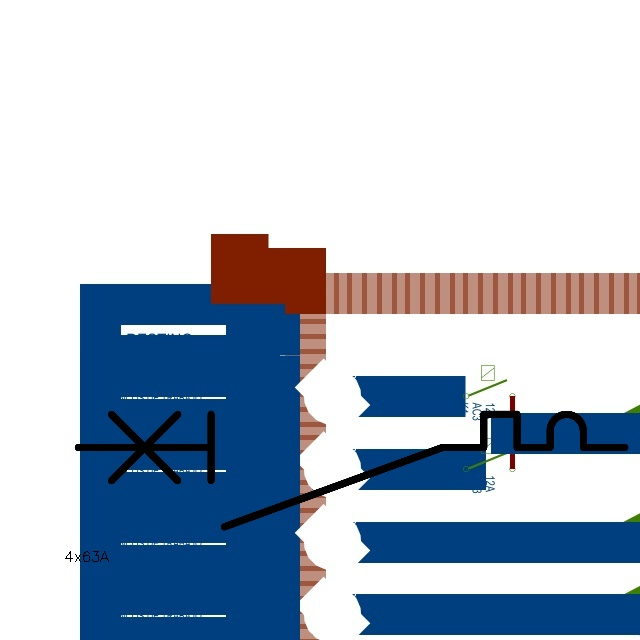interruptor_termomagnetico: (64, 400, 639, 541)
